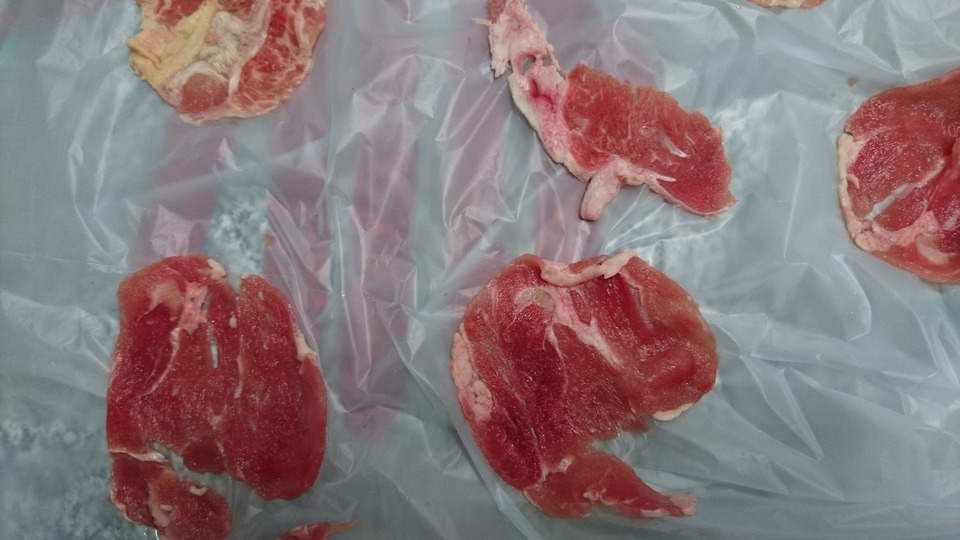restructured meat: (441, 237, 724, 528), (99, 255, 358, 532), (474, 4, 738, 219), (829, 58, 960, 306), (116, 3, 340, 126)
